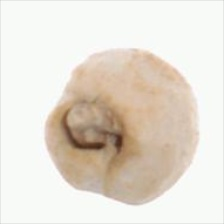L3: (58, 95, 128, 165)
L4: (43, 49, 200, 207)
